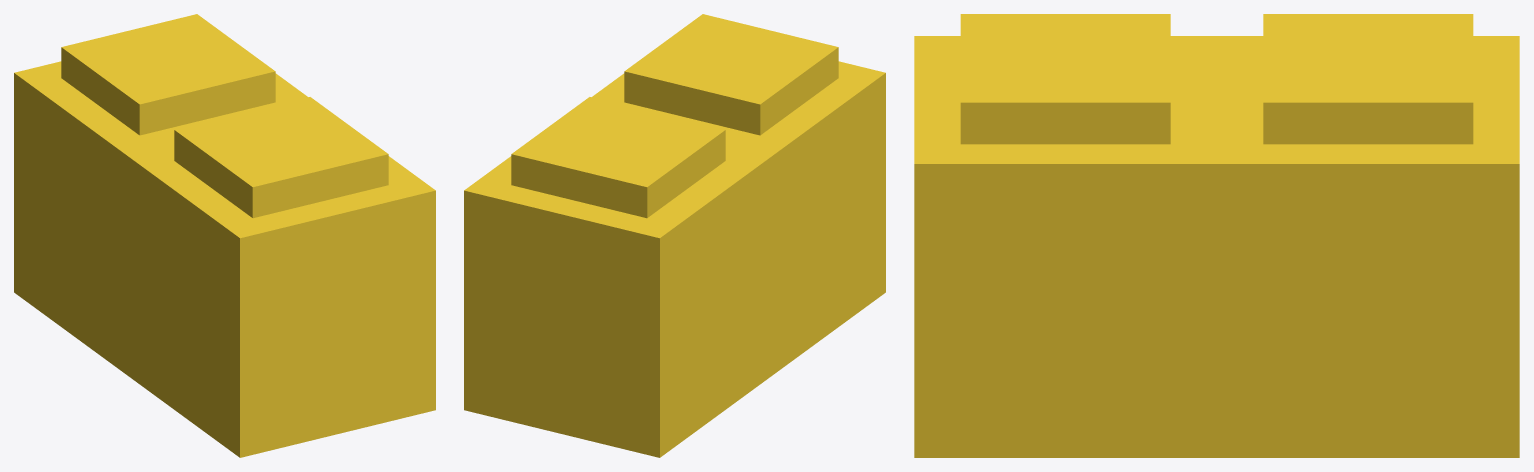
Rendered from Lego_Part_7.fbx.
The picture shows the model from 3 angles, left to right: view 1: azimuth 30°, elevation 25°; view 2: azimuth 150°, elevation 25°; view 3: azimuth 270°, elevation 25°; orthographic projection. The views are drawn at different scales.
Parts seen in each view (by area): view 1: Lego_Part_7; view 2: Lego_Part_7; view 3: Lego_Part_7.
Boxes of the visible parts, x1,y1,x2,y2 form: Lego_Part_7: [14, 14, 435, 457]; Lego_Part_7: [464, 14, 885, 457]; Lego_Part_7: [914, 14, 1519, 457].
Bounding box in the file's own units: 2.08 × 2.54 × 4.16.
Materials: 1 (1 with a texture image).
